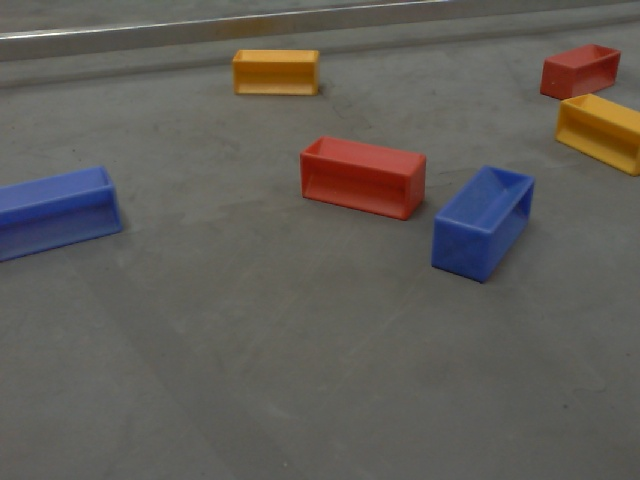BlueSample: (432, 162, 536, 287), (1, 163, 123, 265)
RedSample: (294, 130, 435, 226), (538, 38, 624, 103)
YellowSample: (553, 91, 640, 183), (231, 43, 323, 100)
